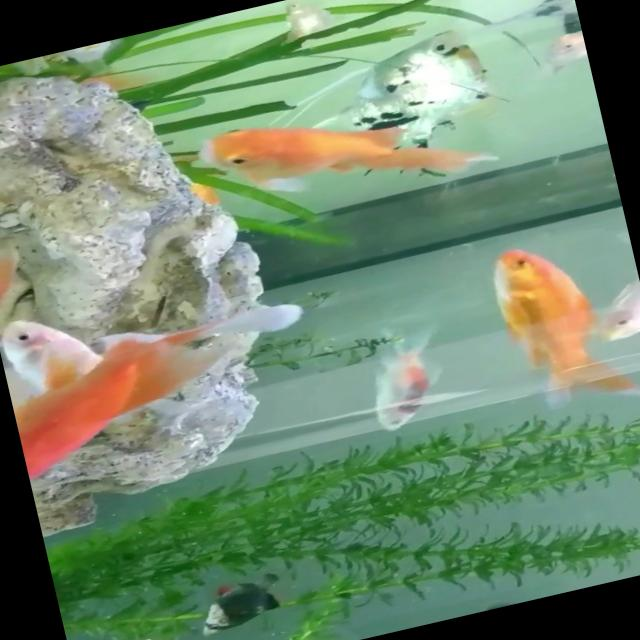GoldFish: (180, 69, 508, 248), (2, 318, 232, 482), (472, 218, 640, 433)
